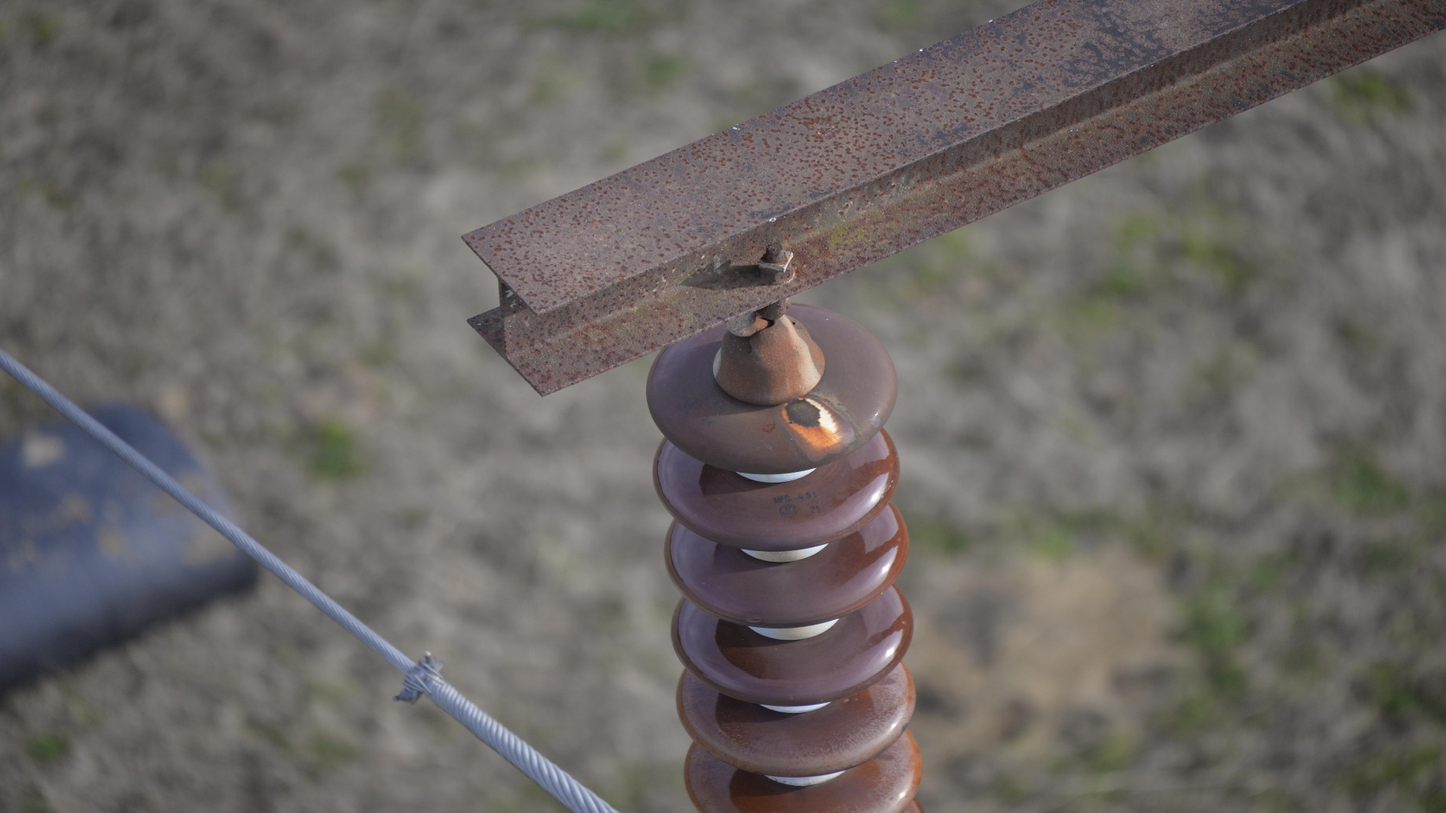insulator: (638, 297, 928, 813)
